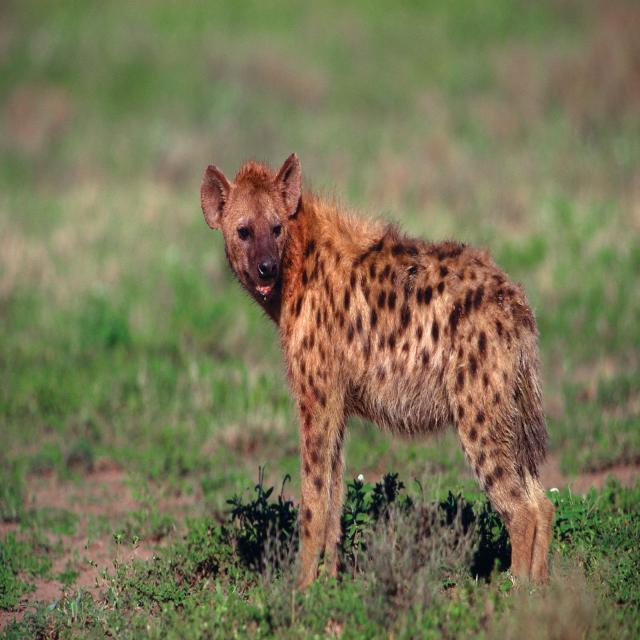Hyena: (196, 156, 557, 583)
